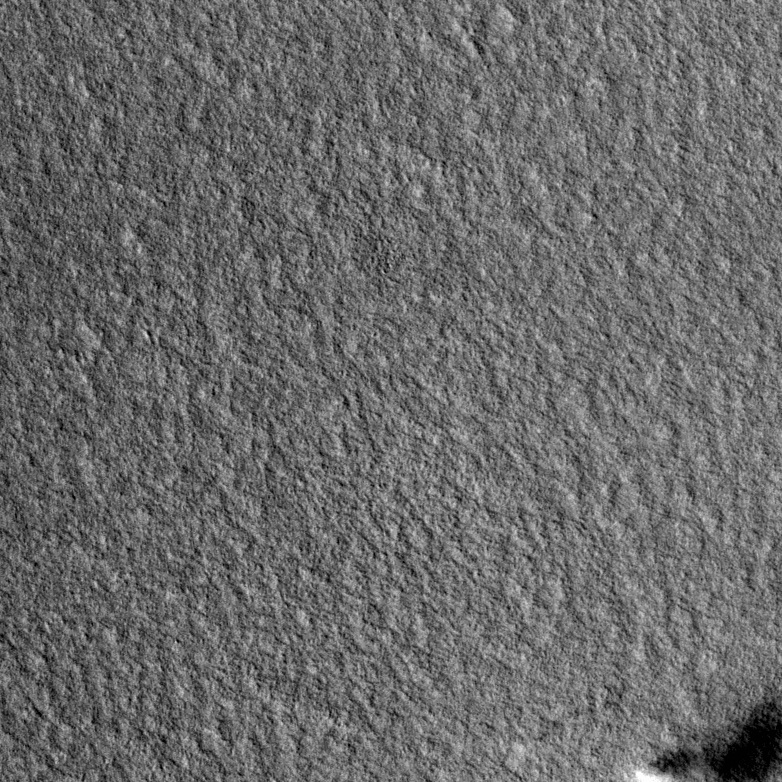dust_devil: (631, 684, 782, 782)
